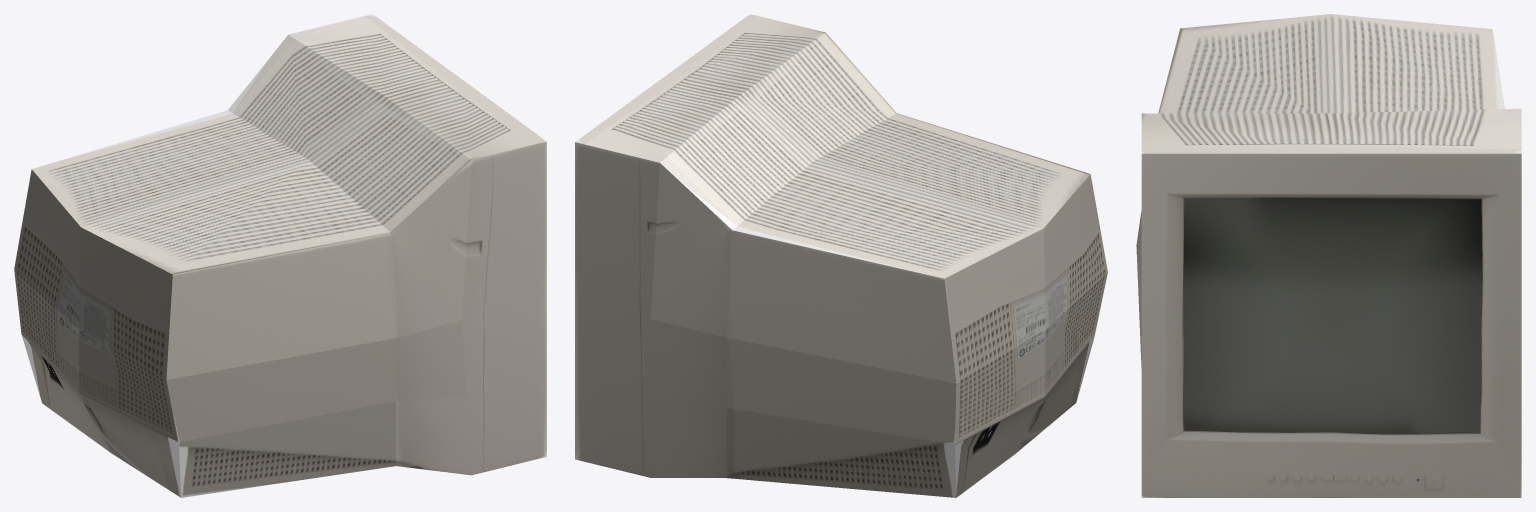
File: pc_ekran.fbx
The picture shows the model from 3 angles, left to right: view 1: azimuth 30°, elevation 25°; view 2: azimuth 150°, elevation 25°; view 3: azimuth 270°, elevation 25°; orthographic projection. The views are drawn at different scales.
Parts seen in each view (by area): view 1: Cube; view 2: Cube; view 3: Cube.
Part boxes in pixels (box(x1,y1,x2,y2)): Cube: box(14, 14, 546, 497); Cube: box(575, 14, 1107, 497); Cube: box(1136, 14, 1521, 497).
Size of the model in its own units: 253 by 200 by 203.
Materials: 3 (3 with a texture image).
